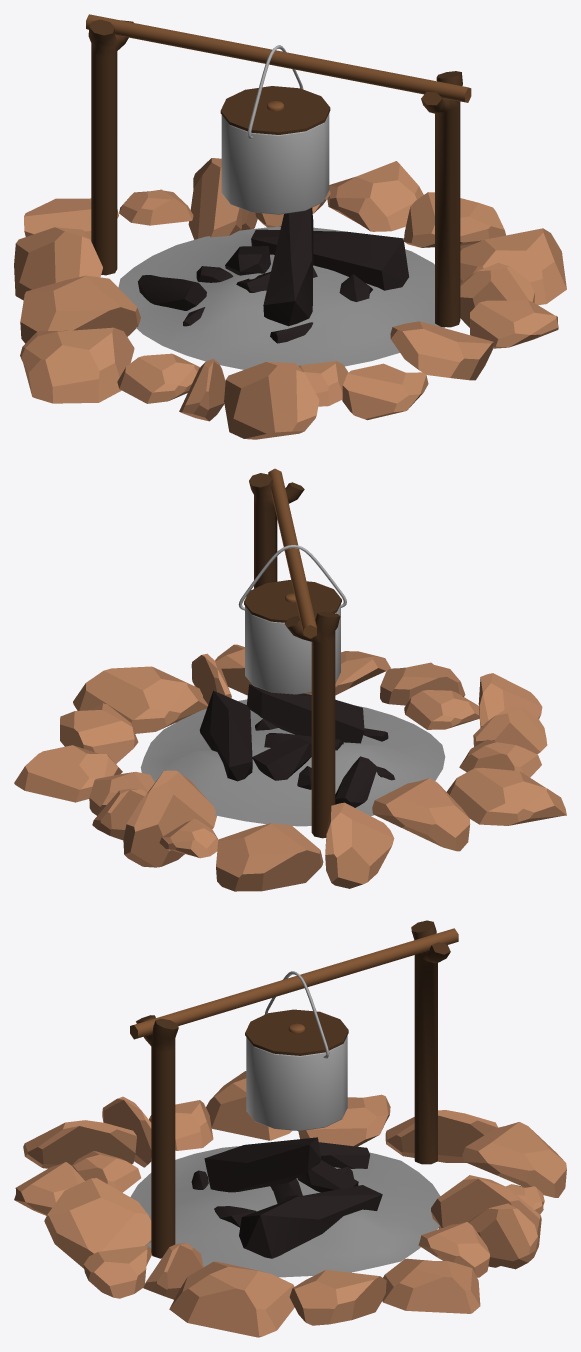
Rendered from campfire_with_pot.fbx.
3 renders of one model, top to bottom at view 1: azimuth 30°, elevation 25°; view 2: azimuth 150°, elevation 25°; view 3: azimuth 270°, elevation 25°, orthographic. The views are drawn at different scales.
Parts seen in each view (by area): view 1: campfire.burnt, pot_on_stand; view 2: campfire.burnt, pot_on_stand; view 3: campfire.burnt, pot_on_stand.
Part boxes in pixels (x1=…): campfire.burnt: x1=14, y1=158, x2=566, y2=439; pot_on_stand: x1=86, y1=14, x2=471, y2=327; campfire.burnt: x1=14, y1=644, x2=566, y2=891; pot_on_stand: x1=238, y1=468, x2=346, y2=838; campfire.burnt: x1=14, y1=1071, x2=566, y2=1337; pot_on_stand: x1=130, y1=920, x2=458, y2=1258.
Size of the model in its own units: 146 by 74.21 by 136.
